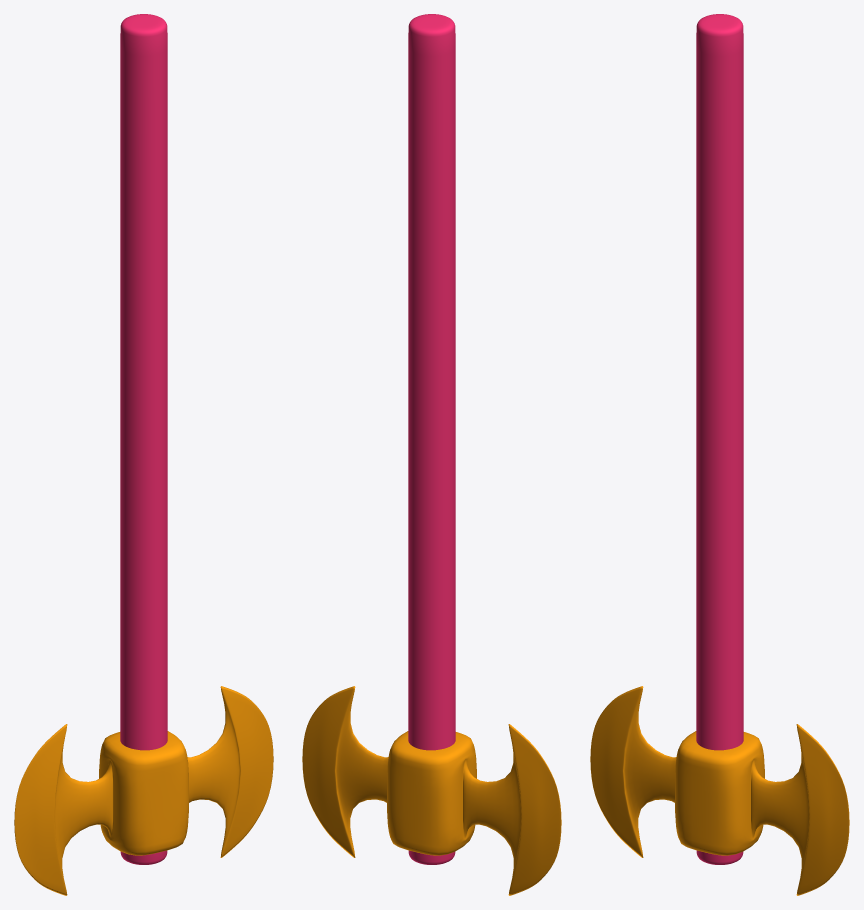
3 renders of one model, left to right at view 1: azimuth 30°, elevation 25°; view 2: azimuth 150°, elevation 25°; view 3: azimuth 330°, elevation 25°, orthographic.
Parts seen in each view (by area): view 1: kol, Balta; view 2: kol, Balta; view 3: kol, Balta.
Part boxes in pixels (x1,y1,x2,y2): kol: (120, 14, 167, 864); Balta: (14, 686, 273, 895); kol: (408, 14, 455, 864); Balta: (302, 686, 561, 895); kol: (696, 14, 743, 864); Balta: (590, 686, 849, 895).
Bounding box in the file's own units: 20.92 × 65.97 × 5.39.
